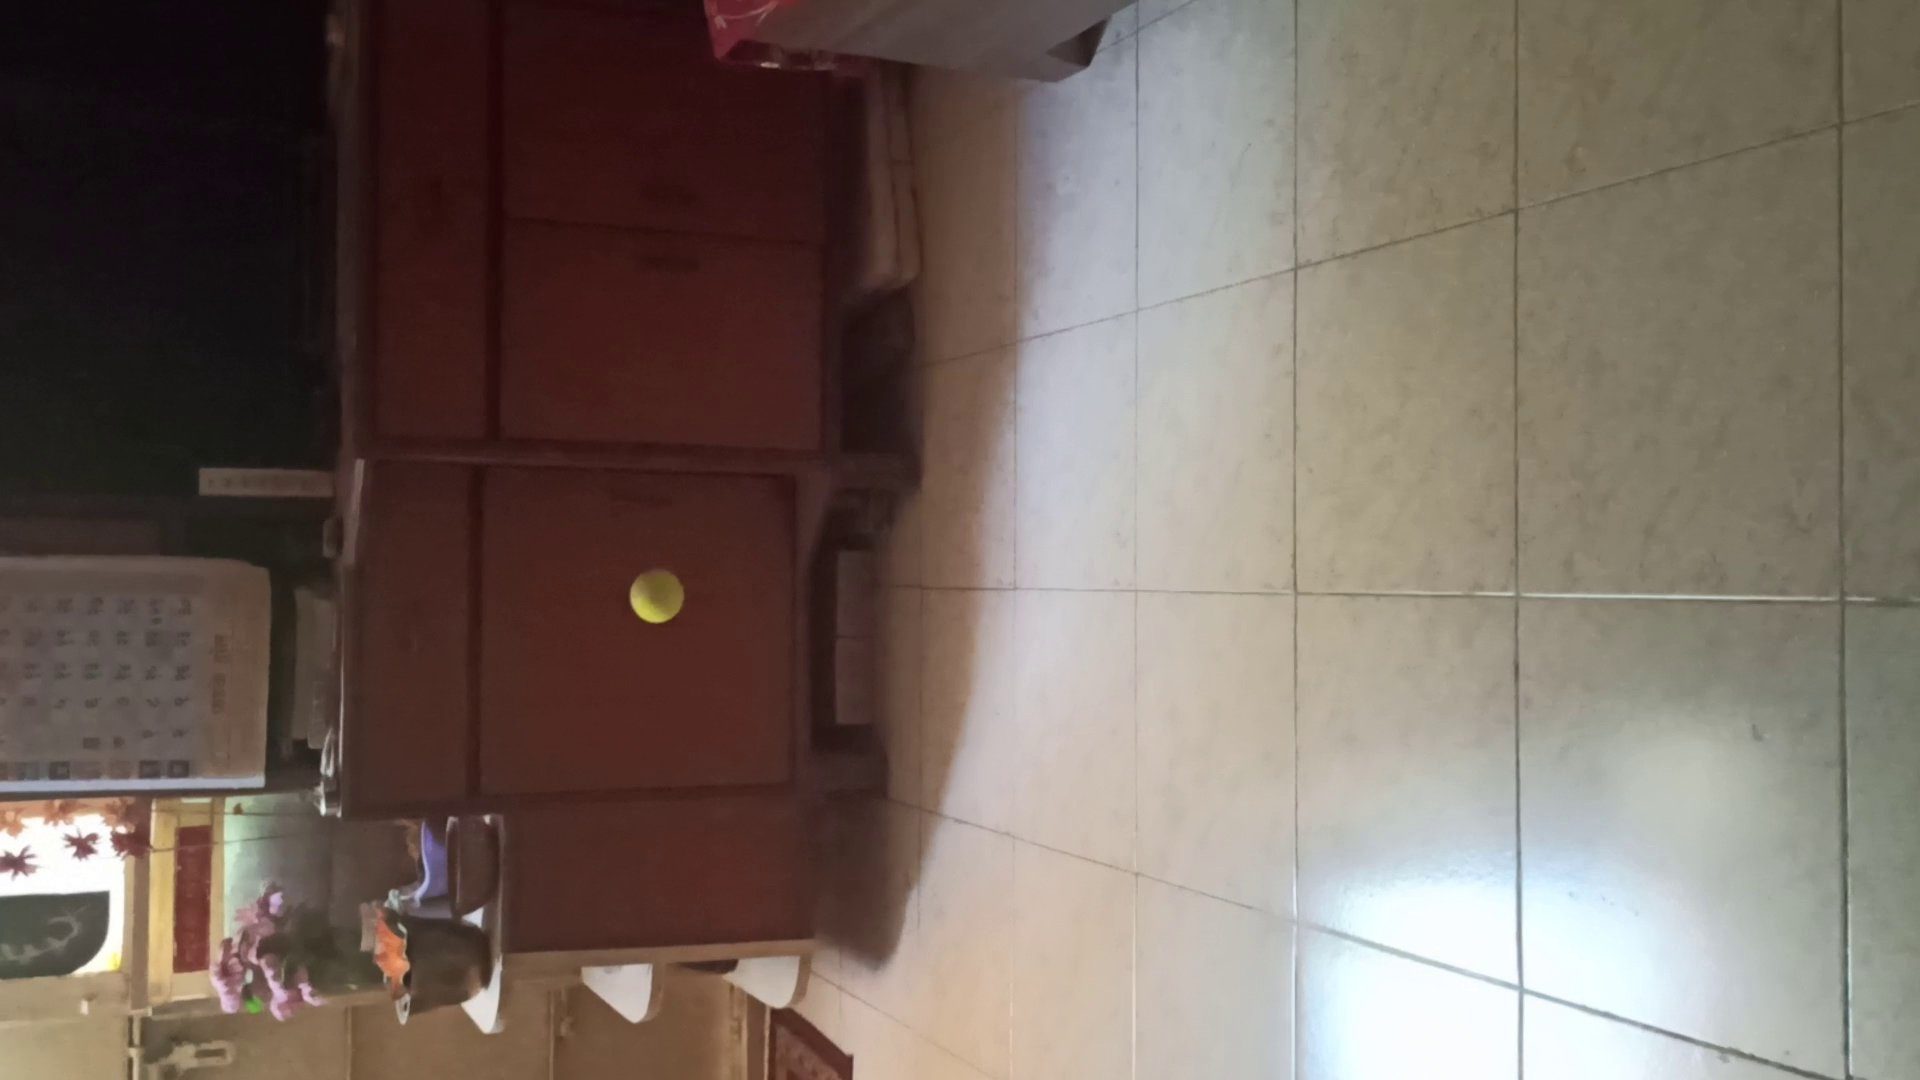Tennis-Ball: (630, 568, 683, 624)
